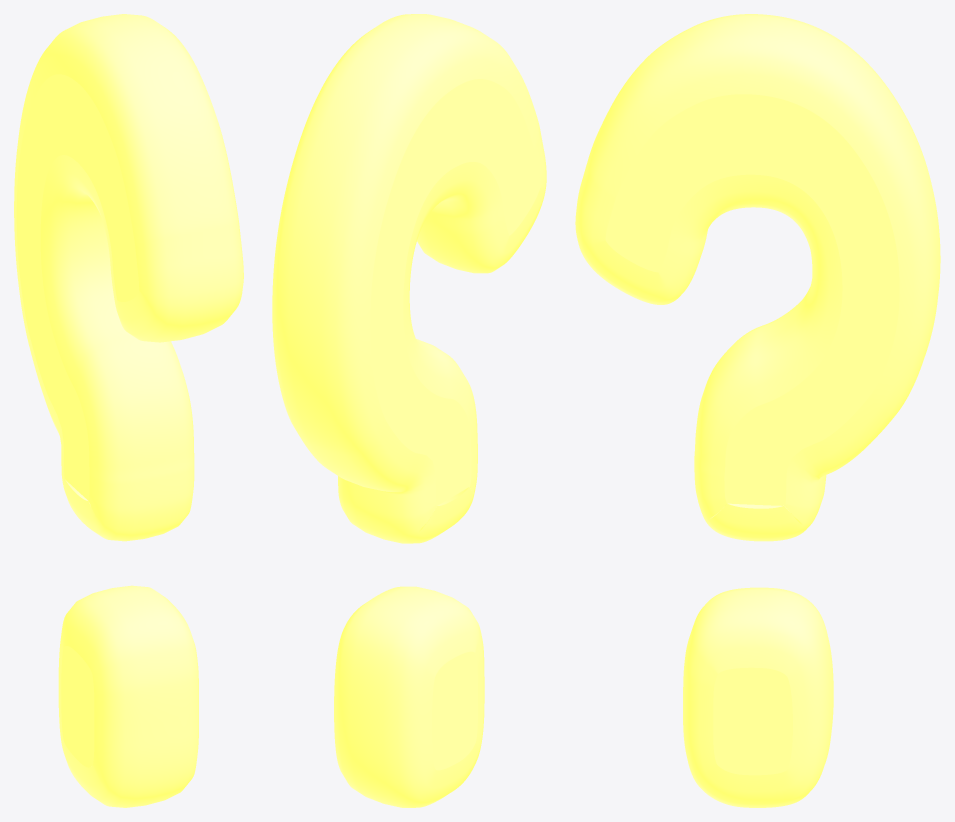
Rendered from QuestionMark.fbx.
The picture shows the model from 3 angles, left to right: view 1: azimuth 30°, elevation 25°; view 2: azimuth 150°, elevation 25°; view 3: azimuth 270°, elevation 25°; orthographic projection.
Parts seen in each view (by area): view 1: QuestionMark; view 2: QuestionMark; view 3: QuestionMark.
Boxes of the visible parts, bbox=[...] form: QuestionMark: bbox=[14, 14, 243, 807]; QuestionMark: bbox=[272, 14, 546, 807]; QuestionMark: bbox=[575, 14, 940, 807].
Bounding box in the file's own units: 54.9 × 335 × 143.
